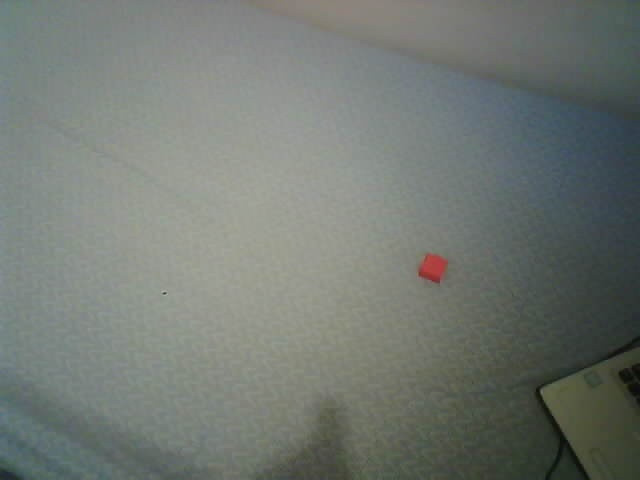lego: (417, 252, 448, 285)
